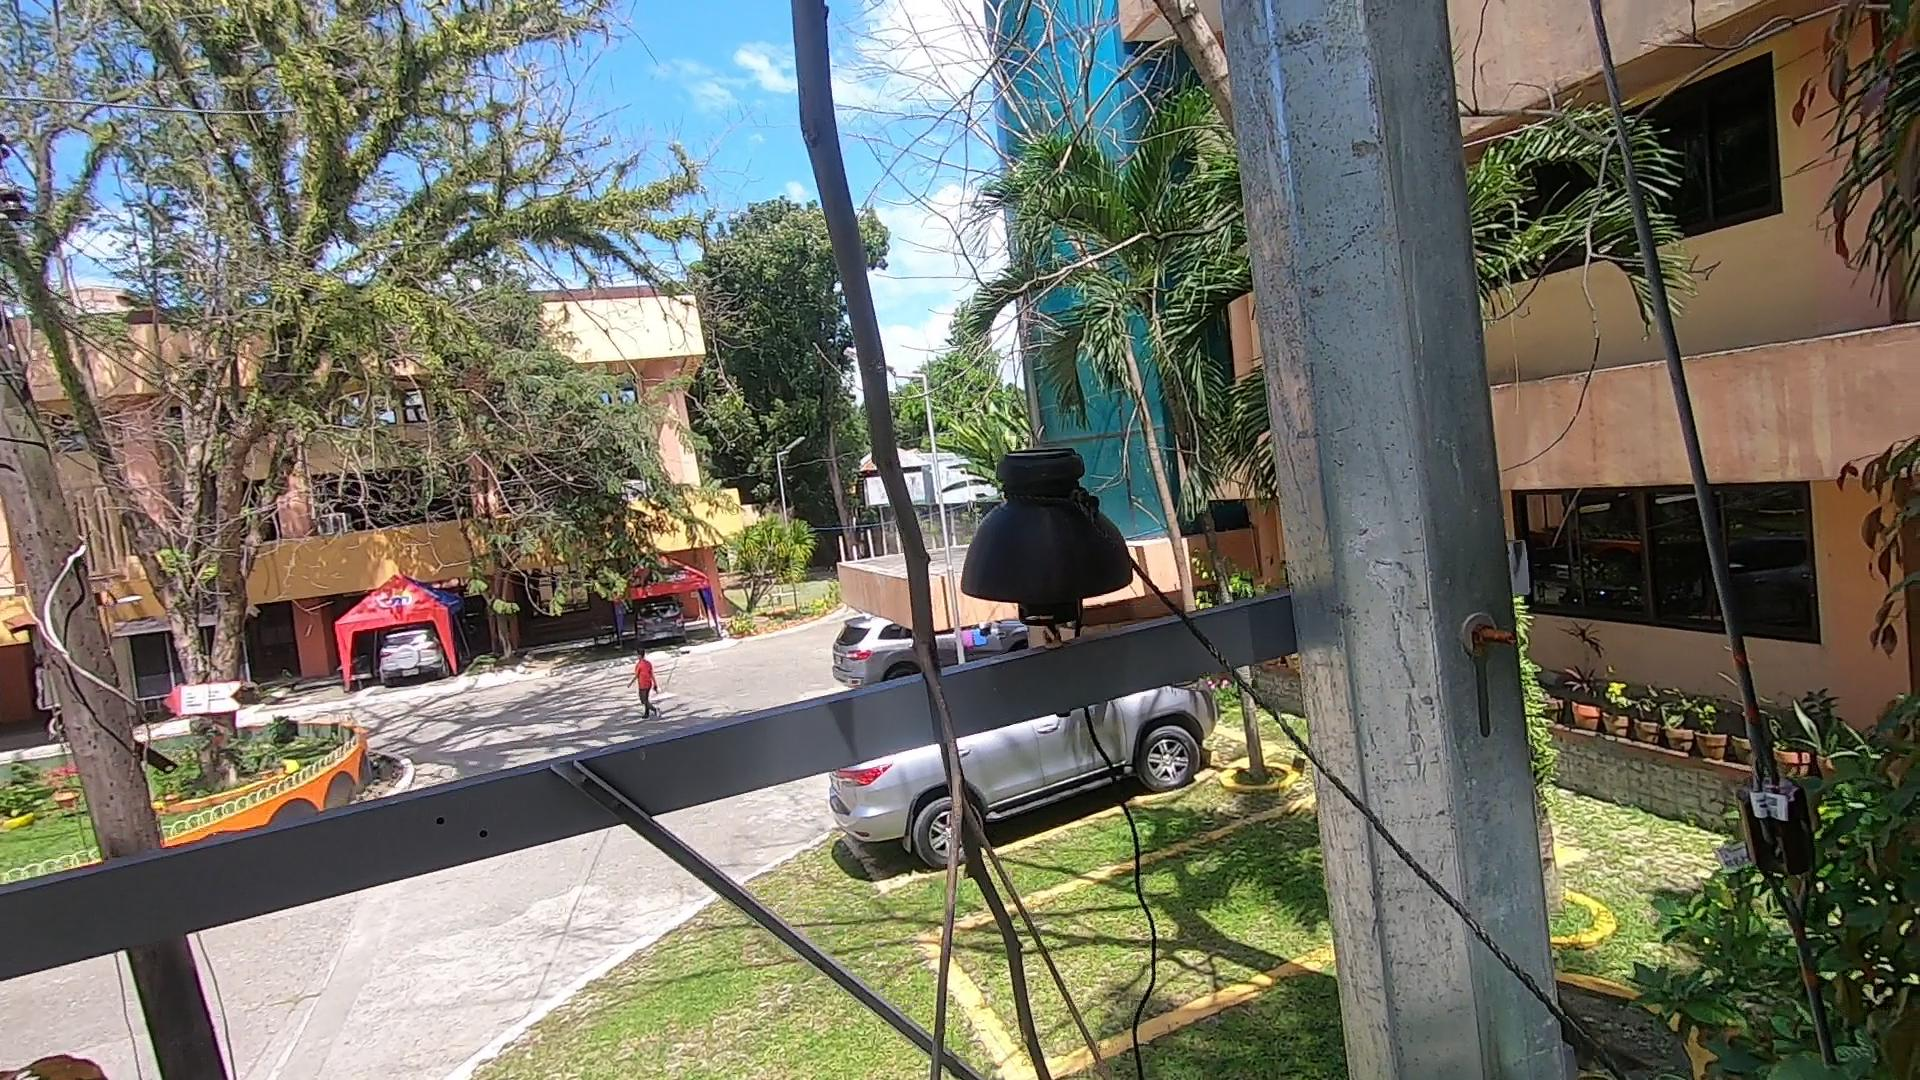tree branch: (731, 1, 1116, 1075)
